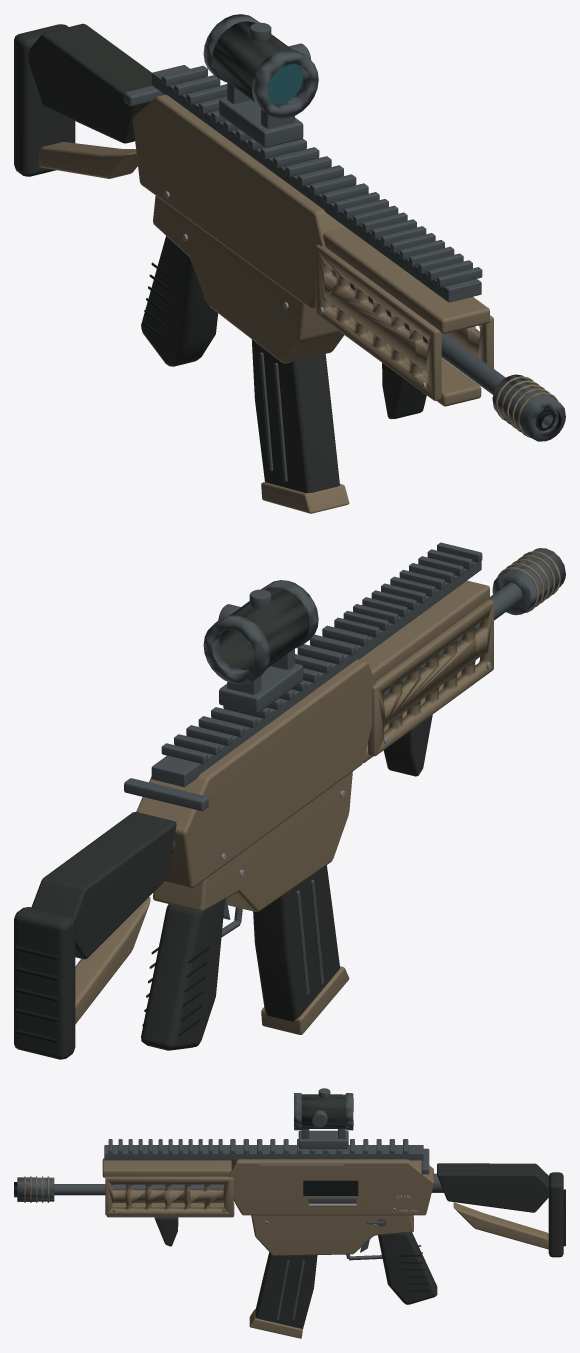
File: wep_smg.glb
3 views of the same model, one above another, from view 1: azimuth 30°, elevation 25°; view 2: azimuth 150°, elevation 25°; view 3: azimuth 270°, elevation 25° (orthographic). The views are drawn at different scales.
Parts seen in each view (by area): view 1: wep_smg_nc7_coating, wep_smg_nc7_polymer, wep_smg_nc7_alloy, wep_smg_nc7_lens, wep_smg_nc7_dark; view 2: wep_smg_nc7_coating, wep_smg_nc7_polymer, wep_smg_nc7_alloy, wep_smg_nc7_dark; view 3: wep_smg_nc7_coating, wep_smg_nc7_polymer, wep_smg_nc7_alloy, wep_smg_nc7_dark, wep_smg_nc7_edge.
Boxes of the visible parts, bbox=[...] form: wep_smg_nc7_coating: bbox=[38, 94, 558, 513]; wep_smg_nc7_polymer: bbox=[14, 21, 426, 492]; wep_smg_nc7_alloy: bbox=[124, 14, 565, 481]; wep_smg_nc7_lens: bbox=[267, 64, 302, 104]; wep_smg_nc7_dark: bbox=[142, 262, 561, 435]; wep_smg_nc7_coating: bbox=[75, 551, 560, 1034]; wep_smg_nc7_polymer: bbox=[14, 587, 432, 1059]; wep_smg_nc7_alloy: bbox=[124, 542, 565, 995]; wep_smg_nc7_dark: bbox=[15, 946, 209, 1042]; wep_smg_nc7_coating: bbox=[24, 1158, 548, 1338]; wep_smg_nc7_polymer: bbox=[154, 1094, 563, 1328]; wep_smg_nc7_alloy: bbox=[17, 1088, 443, 1319]; wep_smg_nc7_dark: bbox=[14, 1180, 565, 1291]; wep_smg_nc7_edge: bbox=[112, 1164, 395, 1227].
Bounding box in the file's own units: 0.0765 × 0.4145 × 0.8521.
